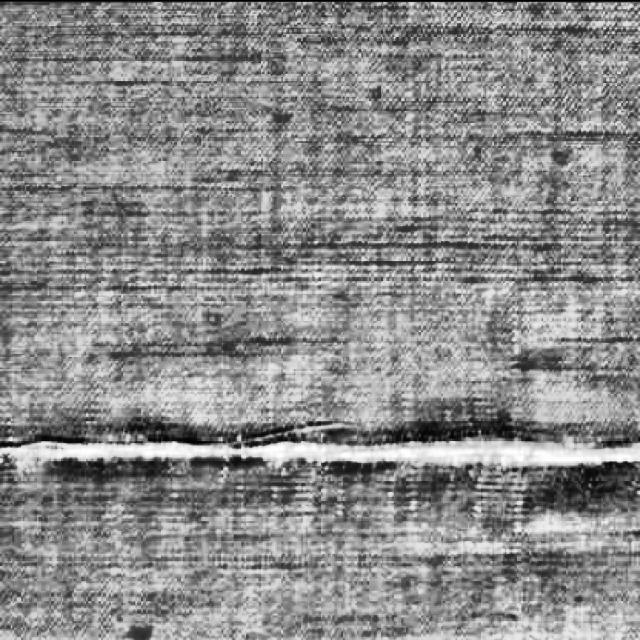hole: (0, 408, 640, 507)
